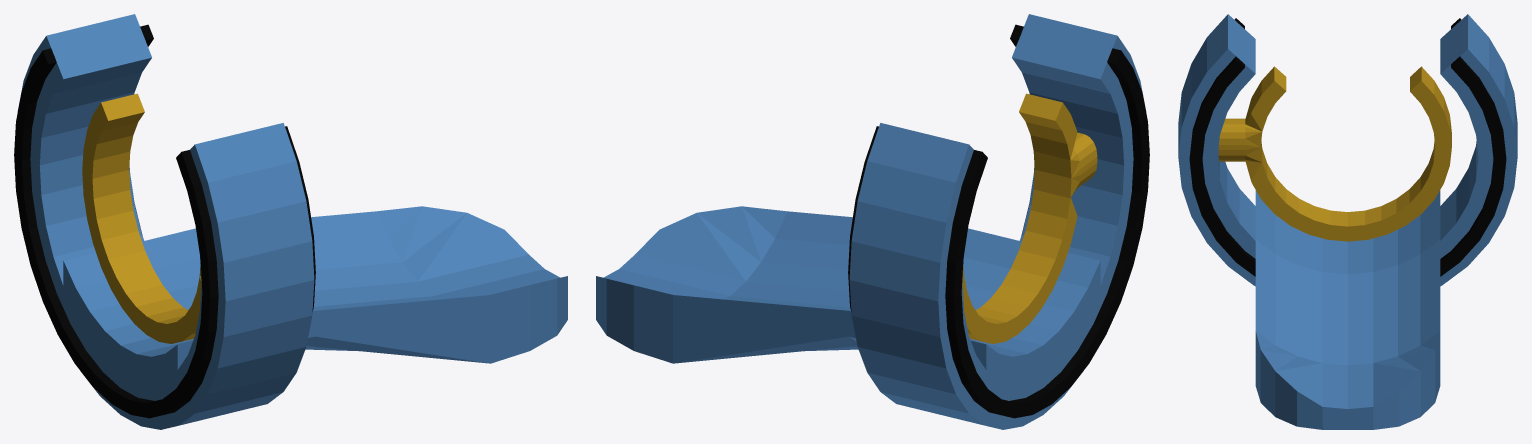
Rendered from VIS_WristLink1.dae.
The picture shows the model from 3 angles, left to right: view 1: azimuth 30°, elevation 25°; view 2: azimuth 150°, elevation 25°; view 3: azimuth 270°, elevation 25°; orthographic projection. The views are drawn at different scales.
Parts seen in each view (by area): view 1: VIS_WristLink1; view 2: VIS_WristLink1; view 3: VIS_WristLink1.
Boxes of the visible parts, x1,y1,x2,y2 form: VIS_WristLink1: (14, 14, 567, 429); VIS_WristLink1: (596, 14, 1149, 429); VIS_WristLink1: (1178, 14, 1517, 429).
Bounding box in the file's own units: 0.1381 × 0.1161 × 0.0991.
